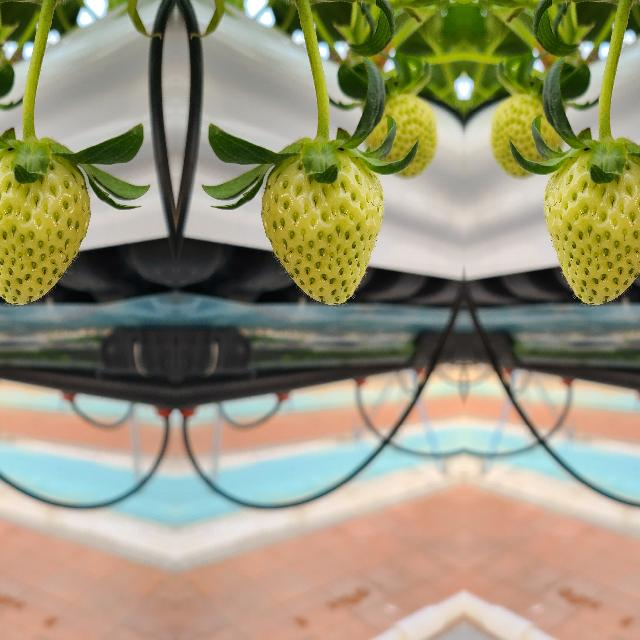Health_25: (258, 151, 384, 309), (542, 151, 640, 309), (0, 151, 92, 309)
